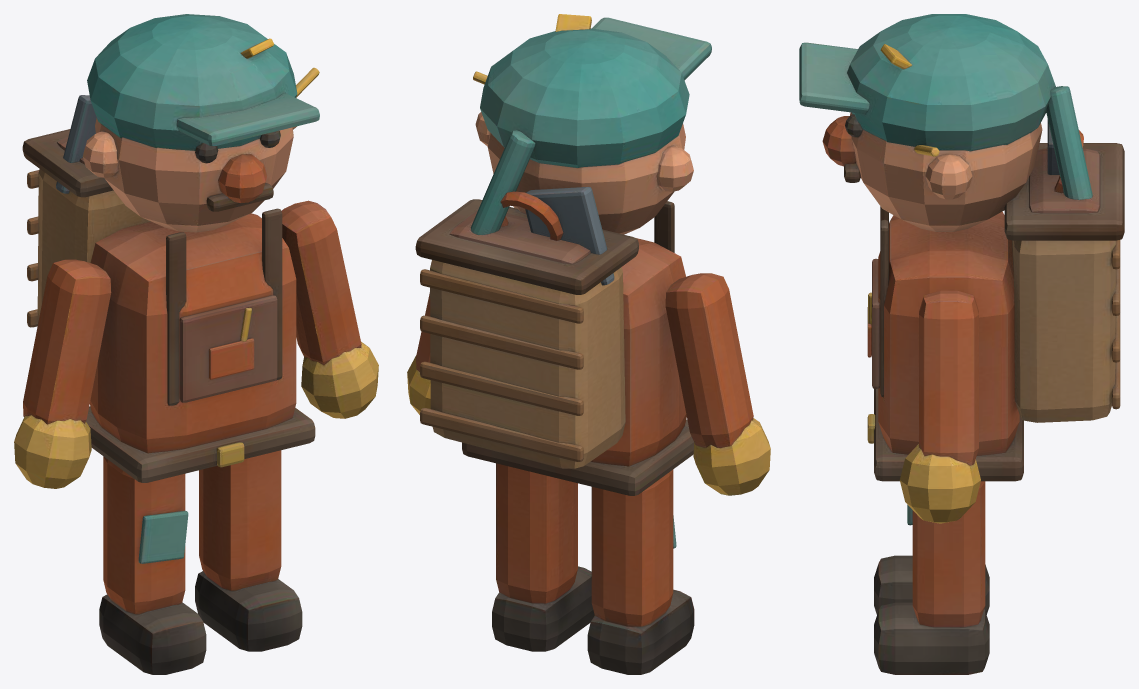
The model's file is player_model.glb.
3 renders of one model, left to right at view 1: azimuth 30°, elevation 25°; view 2: azimuth 150°, elevation 25°; view 3: azimuth 270°, elevation 25°, orthographic.
Parts seen in each view (by area): view 1: Torso_Mesh, Head_Mesh, LegL_Mesh, LegR_Mesh, ArmL_Mesh, ArmR_Mesh, Basket_Mesh, BasketFill_Mesh; view 2: Basket_Mesh, Head_Mesh, Torso_Mesh, LegL_Mesh, LegR_Mesh, ArmL_Mesh, BasketFill_Mesh, ArmR_Mesh; view 3: Head_Mesh, Torso_Mesh, Basket_Mesh, LegR_Mesh, ArmR_Mesh, BasketFill_Mesh, LegL_Mesh.
Boxes of the visible parts, x1=… form: Torso_Mesh: x1=86, y1=208, x2=315, y2=482; Head_Mesh: x1=82, y1=14, x2=319, y2=232; LegL_Mesh: x1=99, y1=456, x2=206, y2=674; LegR_Mesh: x1=195, y1=450, x2=302, y2=651; ArmL_Mesh: x1=14, y1=259, x2=111, y2=488; ArmR_Mesh: x1=281, y1=200, x2=378, y2=418; Basket_Mesh: x1=22, y1=129, x2=150, y2=327; BasketFill_Mesh: x1=56, y1=95, x2=96, y2=193; Basket_Mesh: x1=415, y1=199, x2=638, y2=468; Head_Mesh: x1=473, y1=14, x2=711, y2=234; Torso_Mesh: x1=462, y1=201, x2=694, y2=495; LegL_Mesh: x1=587, y1=469, x2=694, y2=674; LegR_Mesh: x1=492, y1=463, x2=594, y2=651; ArmL_Mesh: x1=665, y1=273, x2=770, y2=495; BasketFill_Mesh: x1=449, y1=130, x2=614, y2=285; ArmR_Mesh: x1=407, y1=292, x2=430, y2=414; Head_Mesh: x1=799, y1=14, x2=1055, y2=231; Torso_Mesh: x1=867, y1=206, x2=1023, y2=481; Basket_Mesh: x1=1004, y1=143, x2=1124, y2=422; LegR_Mesh: x1=874, y1=481, x2=989, y2=674; ArmR_Mesh: x1=899, y1=290, x2=980, y2=523; BasketFill_Mesh: x1=1029, y1=86, x2=1100, y2=213; LegL_Mesh: x1=874, y1=504, x2=989, y2=614.
Size of the model in its own units: 0.9556 by 1.58 by 0.7594.
8 materials, 8 textured.
